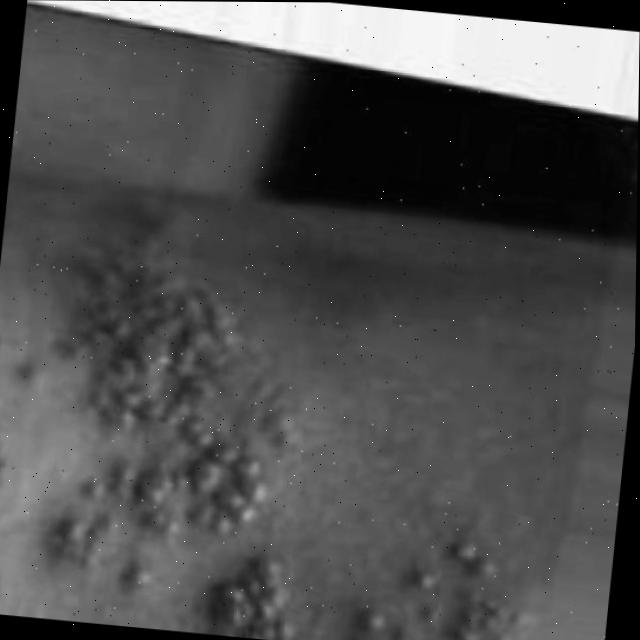Shingles: (22, 232, 295, 603), (341, 519, 536, 640), (191, 541, 301, 640)
